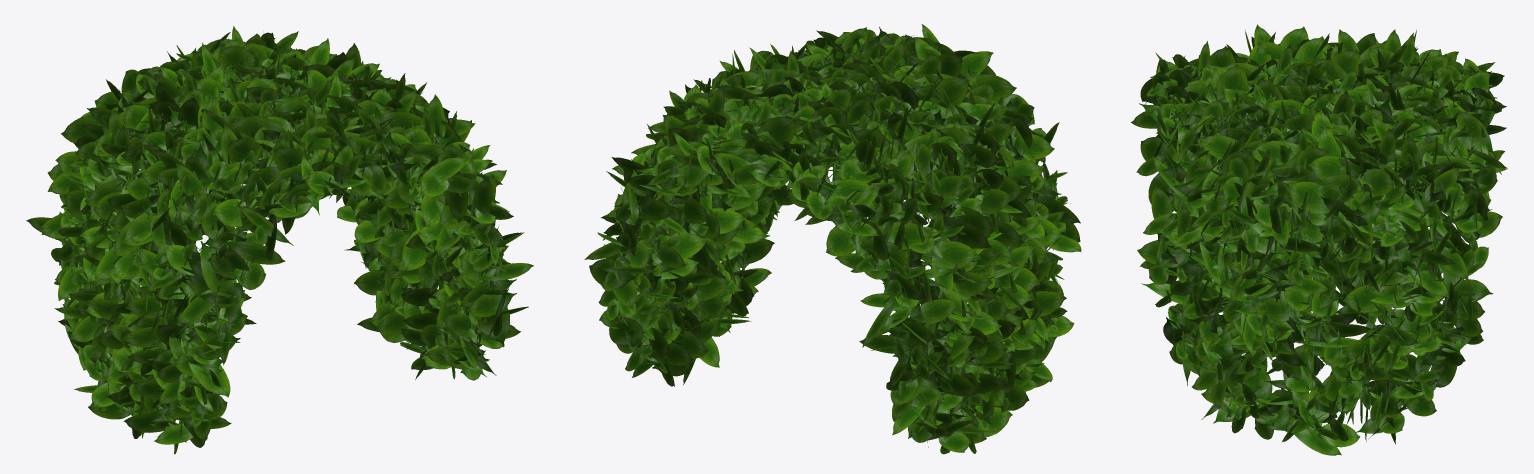
Rendered from bush.fbx.
3 views of the same model, side by side, from view 1: azimuth 30°, elevation 25°; view 2: azimuth 150°, elevation 25°; view 3: azimuth 270°, elevation 25° (orthographic). The views are drawn at different scales.
Parts seen in each view (by area): view 1: Bush.001; view 2: Bush.001; view 3: Bush.001.
Boxes of the visible parts, left/top/right/bottom form: Bush.001: left=26, top=26, right=533, bottom=454; Bush.001: left=584, top=24, right=1081, bottom=454; Bush.001: left=1131, top=24, right=1507, bottom=455.
Size of the model in its own units: 131 by 117 by 123.
